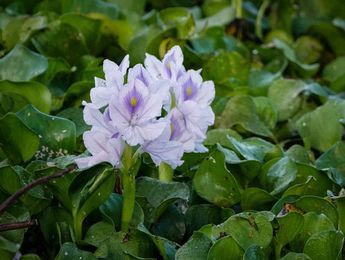water_hyacinth: (0, 46, 345, 260)
